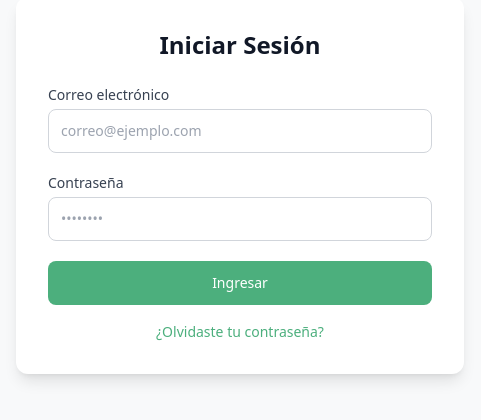
Test case: LoginPage › inline validation (Req 21.13) › shows inline validation when submitting empty form
The width and height of the screenshot is (481, 420).
Step 1. Click the button "Ingresar" → (240,282), box [48,260,432,304]
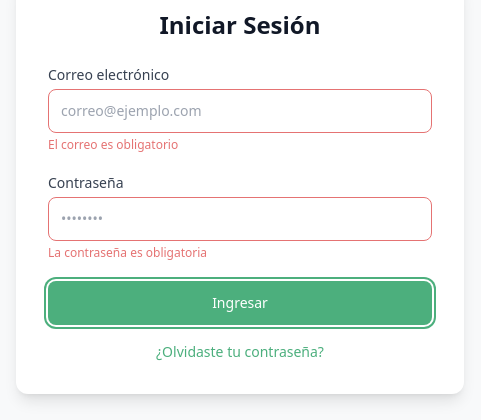
Expected: the text "El correo es obligatorio" is shown, [48,136,178,152]
Expected: the text "La contraseña es obligatoria" is shown, [48,244,207,260]
